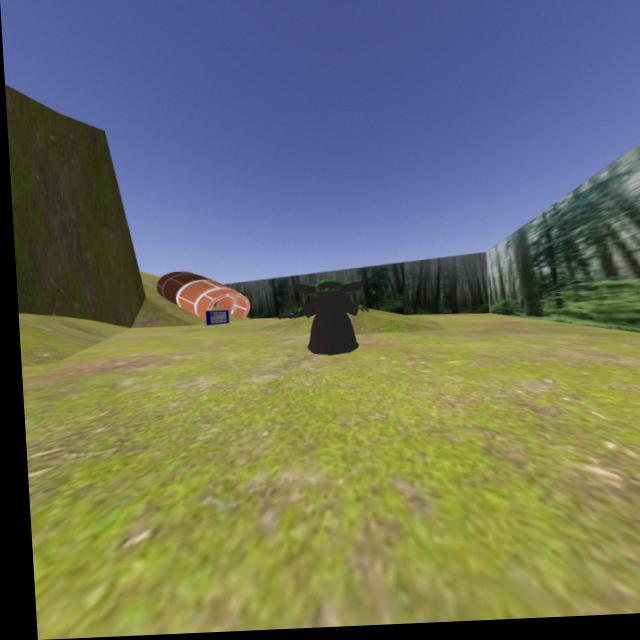yoda: (294, 276, 365, 361)
